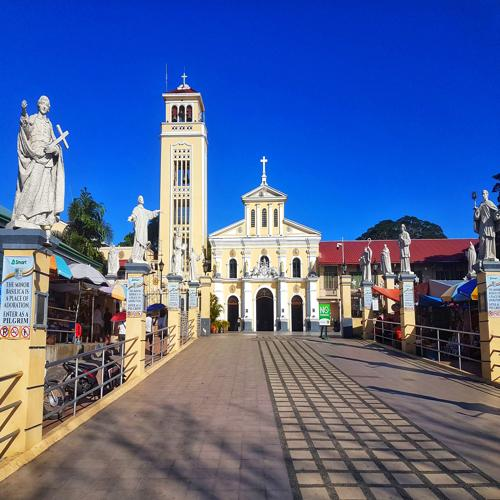Manaoag Church: (148, 62, 327, 333)
